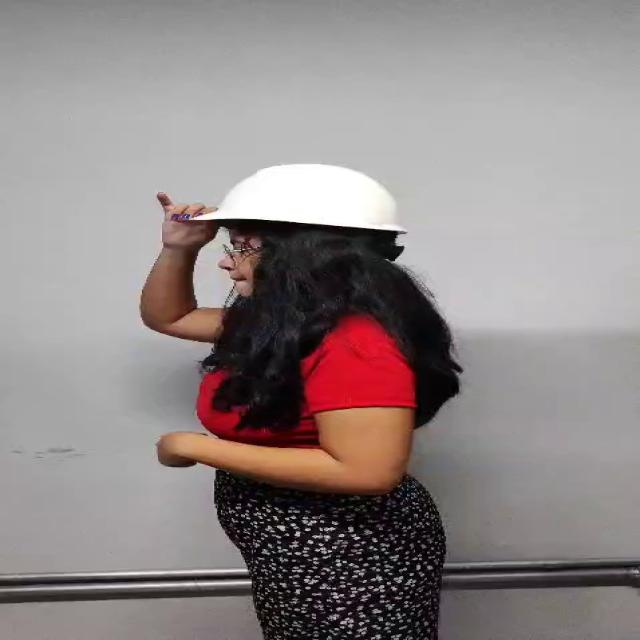capacete: (143, 148, 408, 269)
